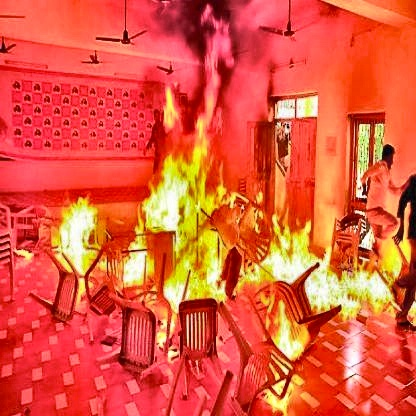fire: (43, 120, 407, 347)
